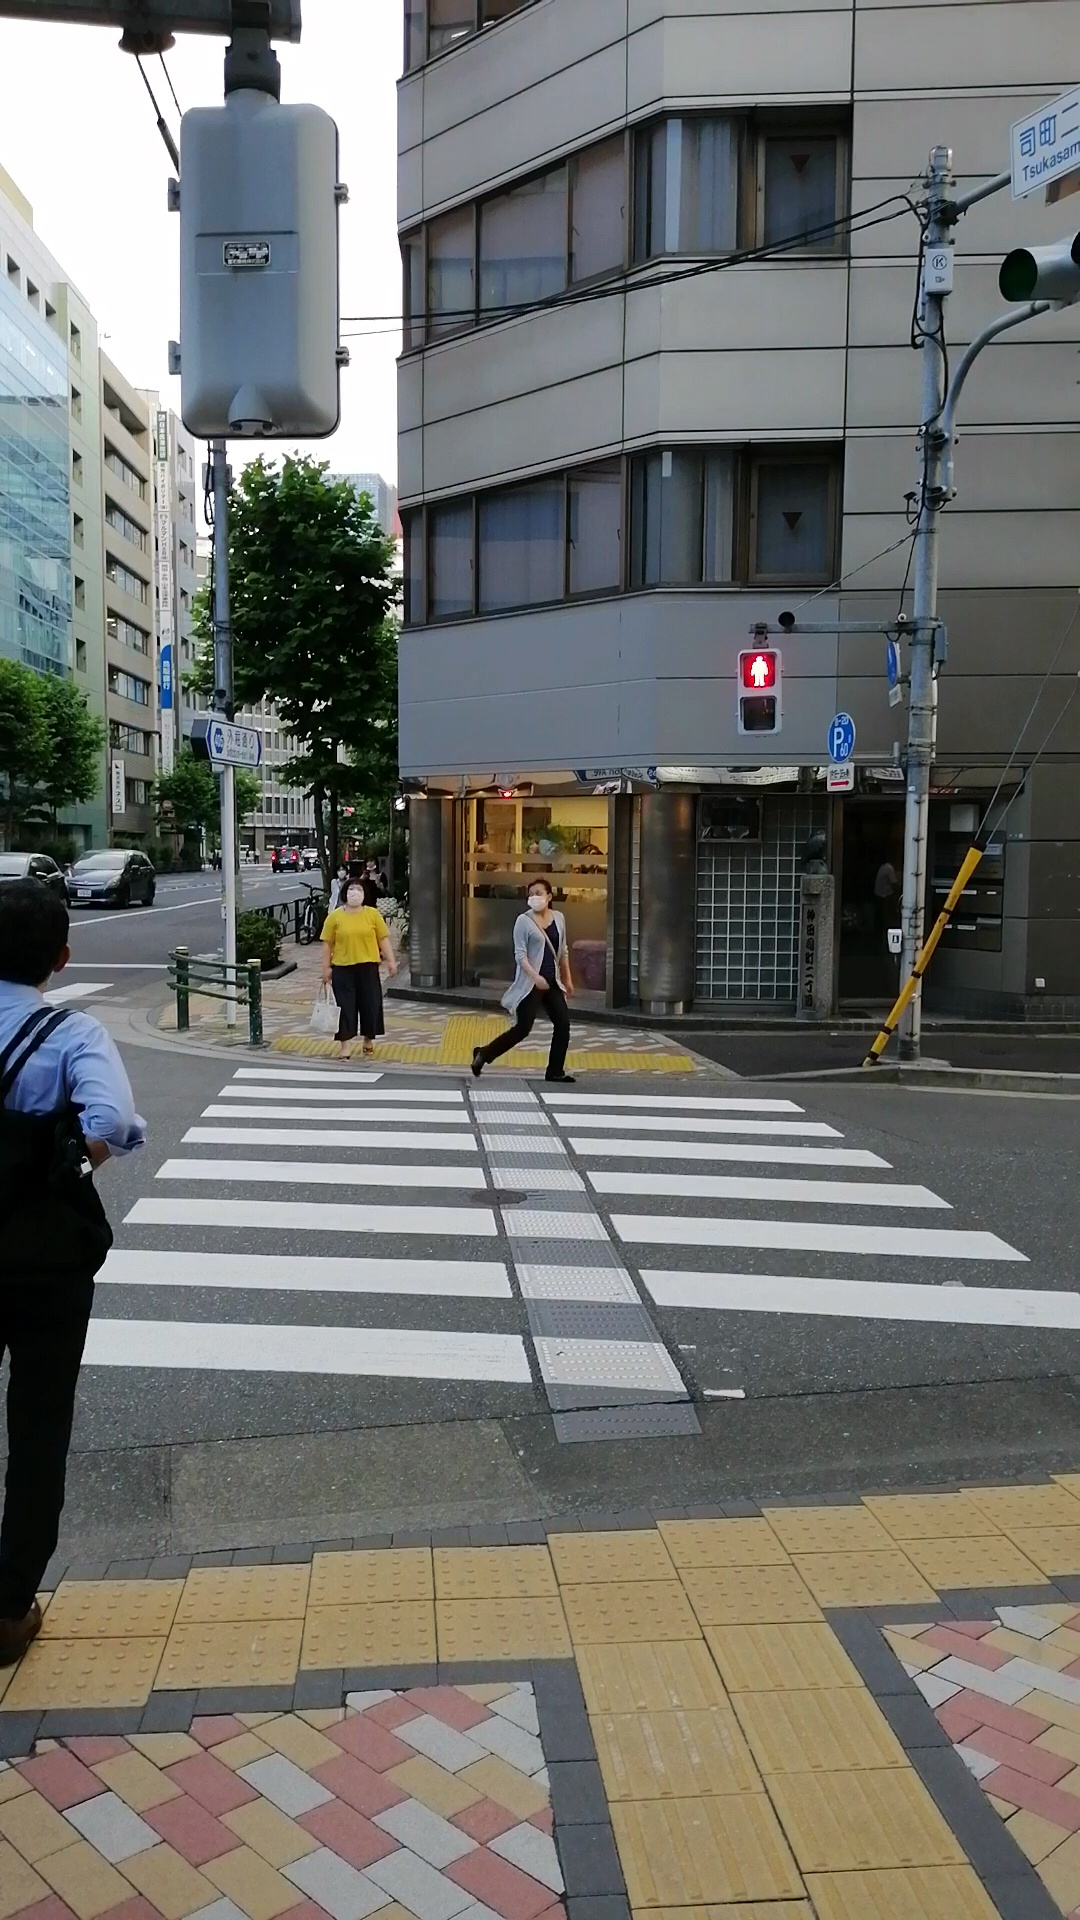red: (736, 647, 782, 736)
